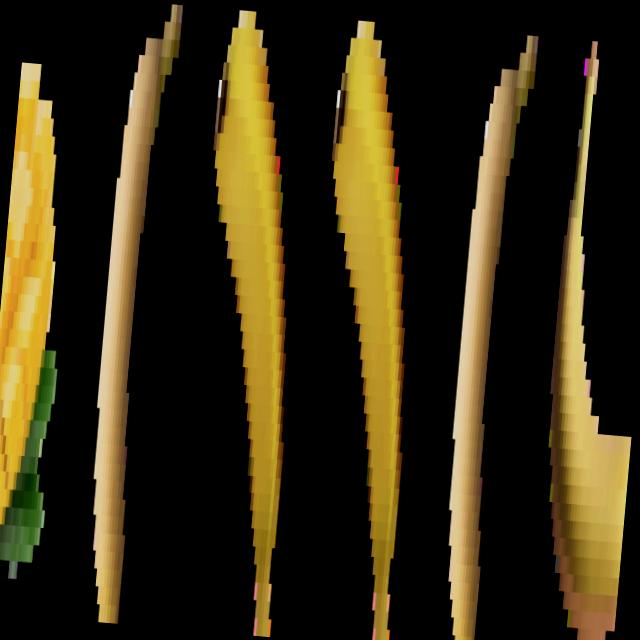bananas: (286, 0, 449, 640), (174, 0, 325, 637), (430, 13, 548, 640), (74, 0, 192, 625), (523, 21, 640, 640)
